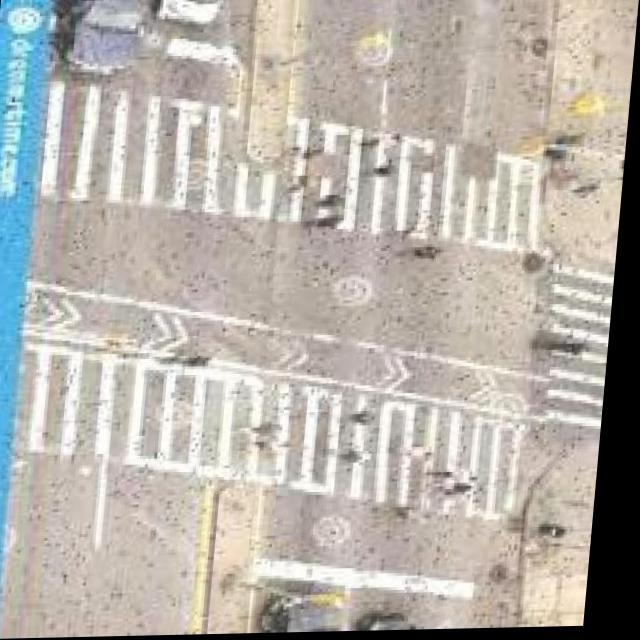zebra: (37, 87, 566, 265), (16, 353, 542, 525), (538, 266, 621, 464)
